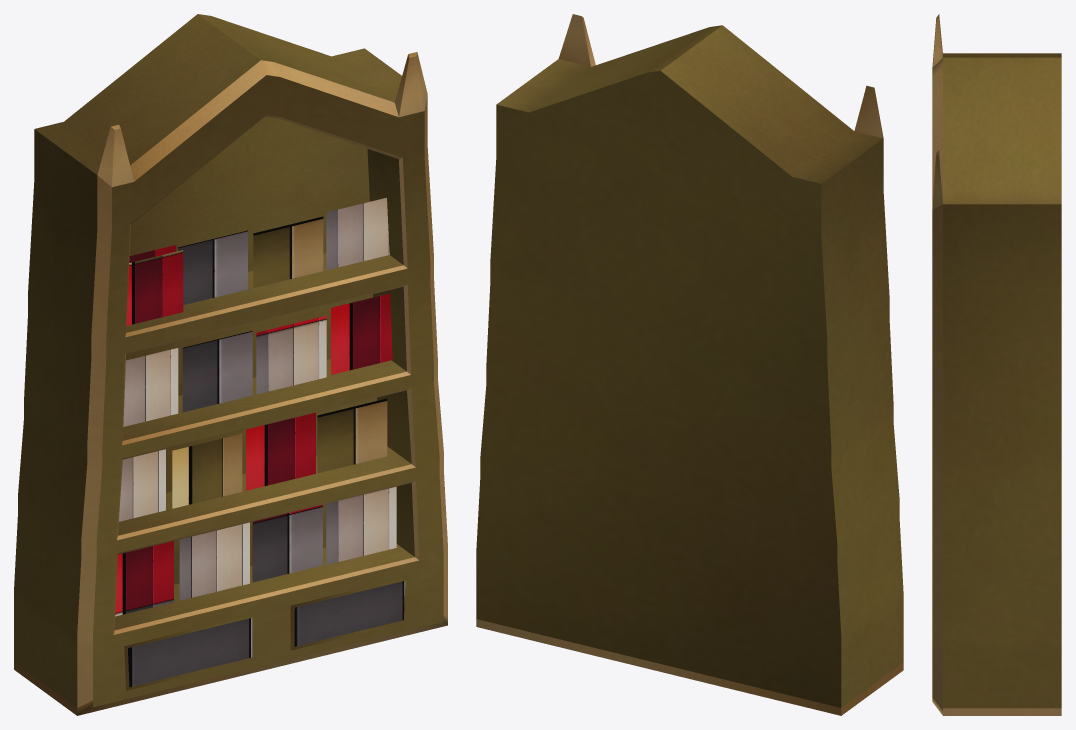
File: SM_library_bookshelf_02.fbx
The picture shows the model from 3 angles, left to right: view 1: azimuth 30°, elevation 25°; view 2: azimuth 150°, elevation 25°; view 3: azimuth 270°, elevation 25°; orthographic projection. The views are drawn at different scales.
Visible parts, largest first — view 1: SM_library_bookshelf_02; view 2: SM_library_bookshelf_02; view 3: SM_library_bookshelf_02.
Boxes of the visible parts, box(x1,y1,x2,y2) form: SM_library_bookshelf_02: box(14, 14, 447, 715); SM_library_bookshelf_02: box(476, 14, 903, 715); SM_library_bookshelf_02: box(932, 14, 1061, 715).
Size of the model in its own units: 2.1 by 3.31 by 0.6762.
